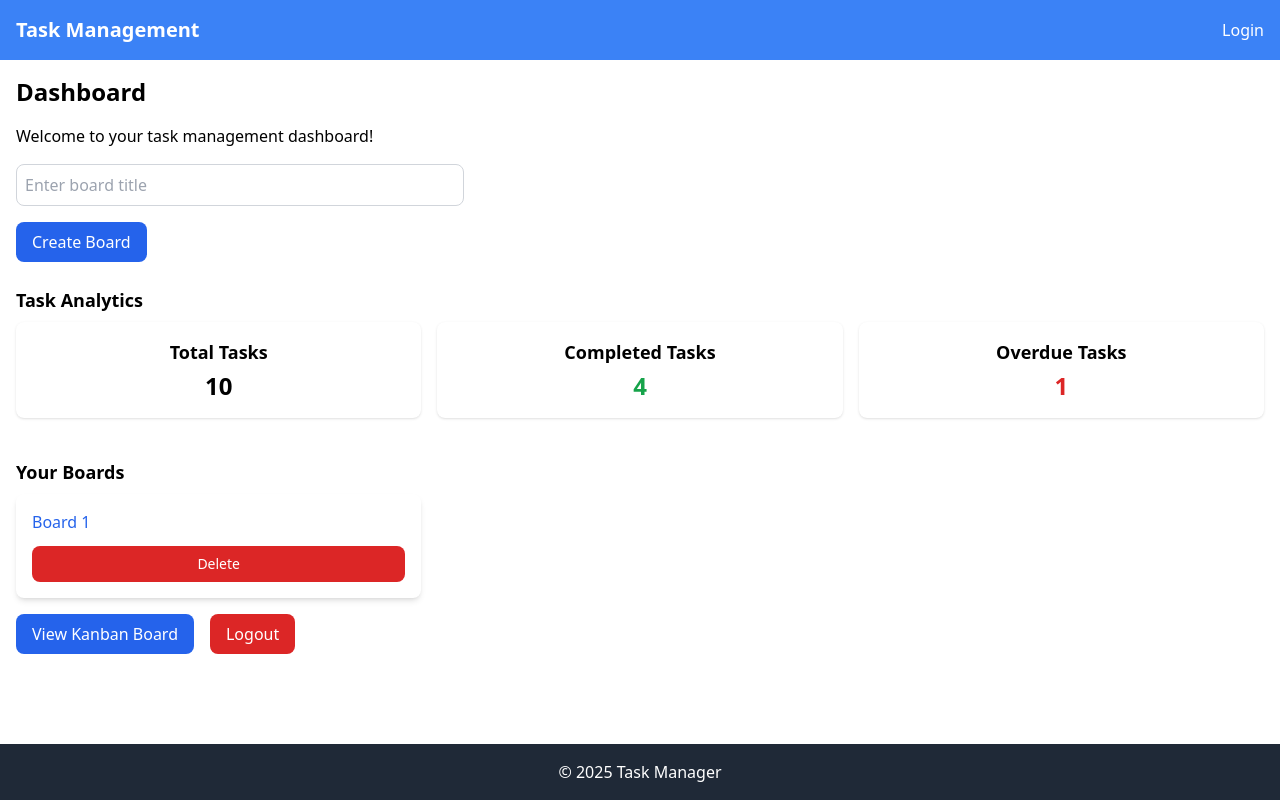
Test: Dashboard › shows error message when delete fails
Expected: the link "Board 1" is shown, [32,511,90,533]
Step 1. Click the button "Delete" → click(219, 564), box [32,546,405,582]
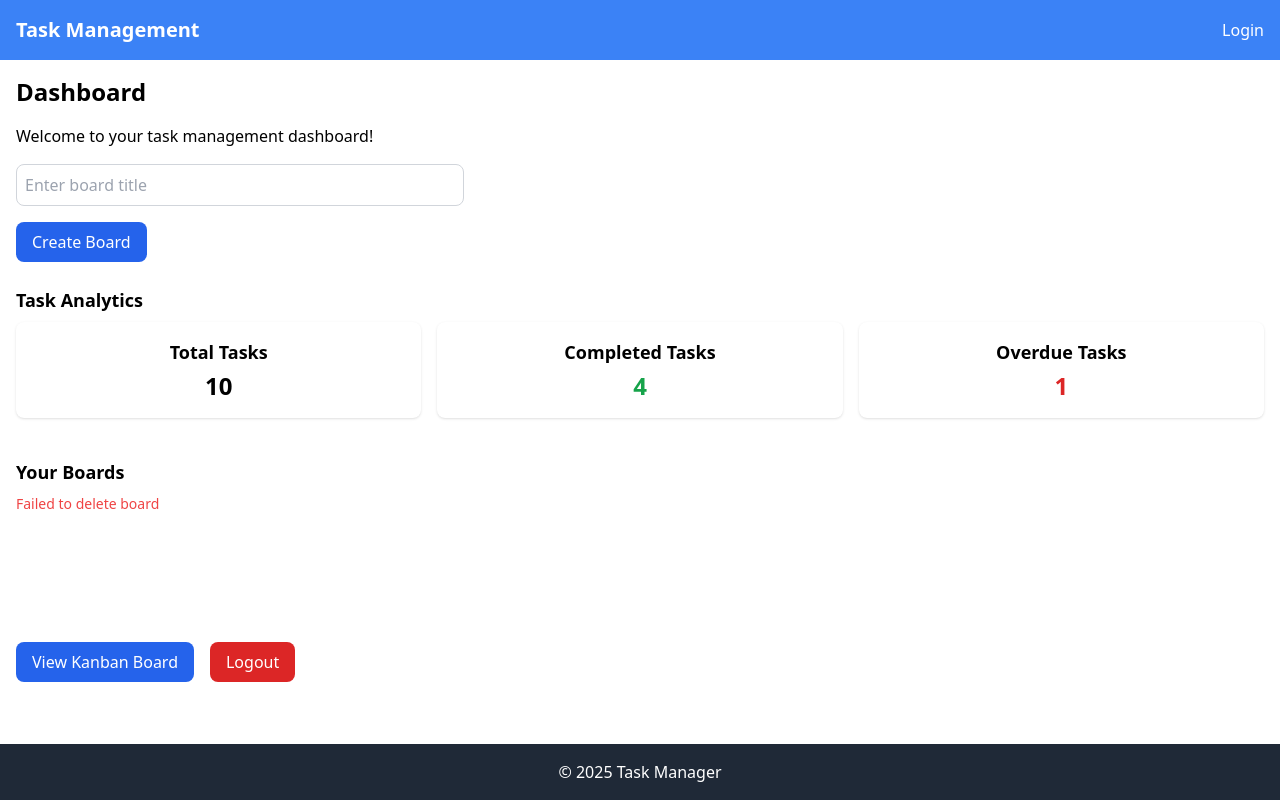
Now the text "Failed to delete board" is shown, box [16,494,159,513]
